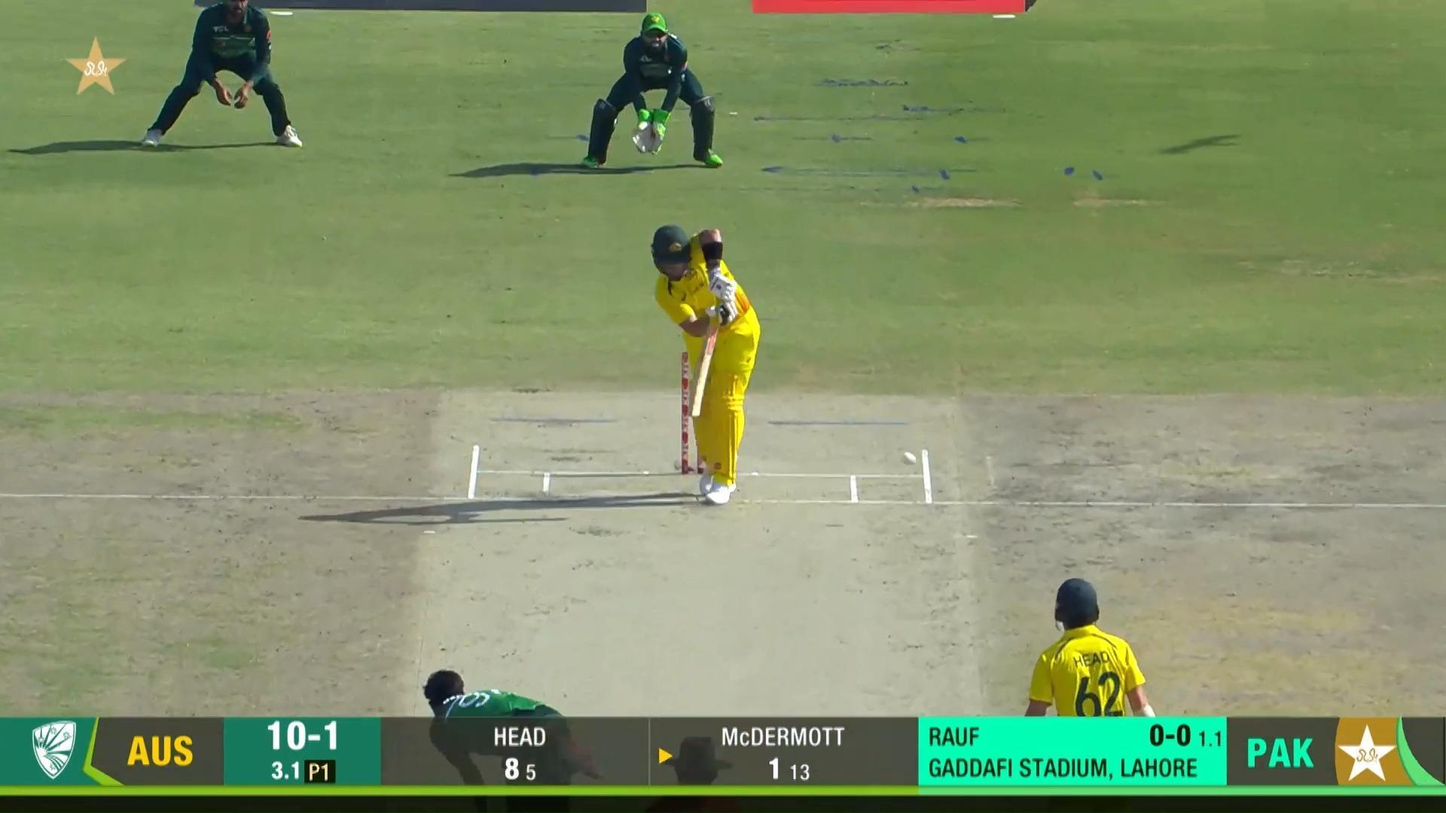BM 1: (650, 224, 761, 505)
BO: (423, 669, 564, 719)
